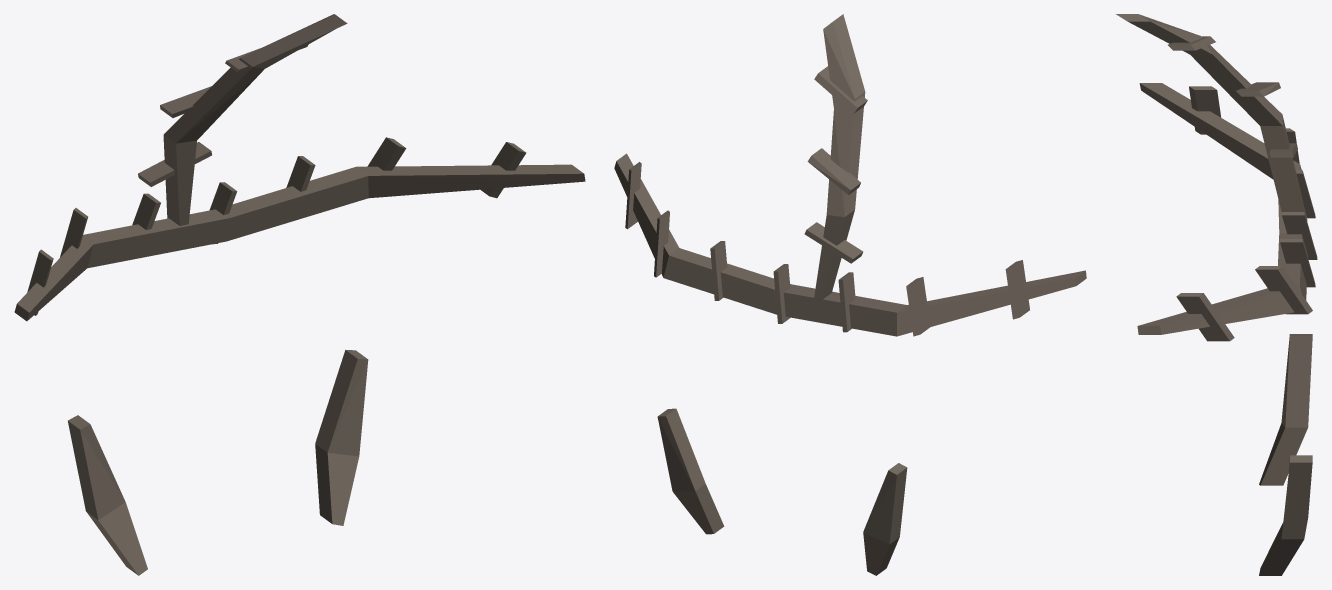
Rendered from cult_escapee_face.obj.
3 views of the same model, side by side, from view 1: azimuth 30°, elevation 25°; view 2: azimuth 150°, elevation 25°; view 3: azimuth 270°, elevation 25° (orthographic). The views are drawn at different scales.
Visible parts, largest first — view 1: cult_escapee_face; view 2: cult_escapee_face; view 3: cult_escapee_face.
Boxes of the visible parts, box(x1,y1,x2,y2) form: cult_escapee_face: box(14, 14, 585, 575); cult_escapee_face: box(614, 14, 1086, 575); cult_escapee_face: box(1116, 14, 1317, 575).
Size of the model in its own units: 0.3612 by 0.3579 by 0.1239.
